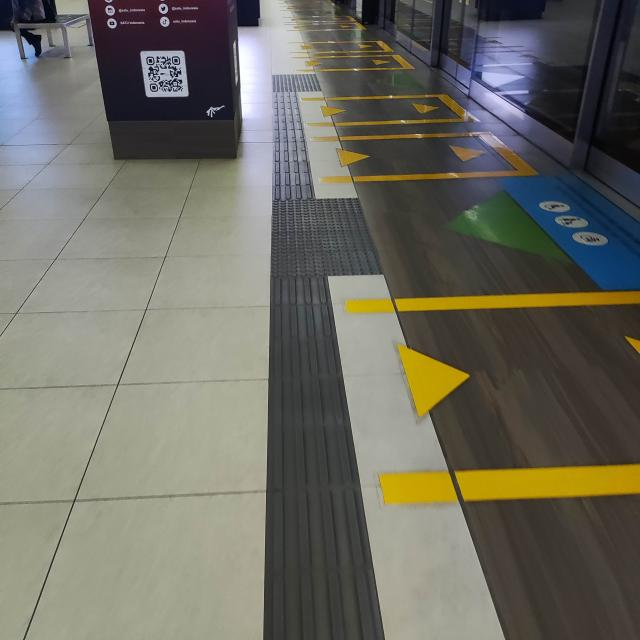lurus: (277, 273, 360, 640), (262, 89, 320, 214)
